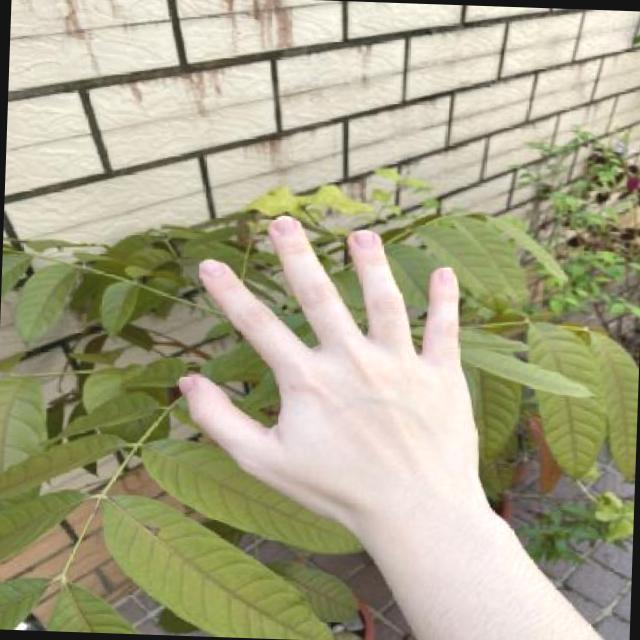hand: (162, 198, 514, 544)
